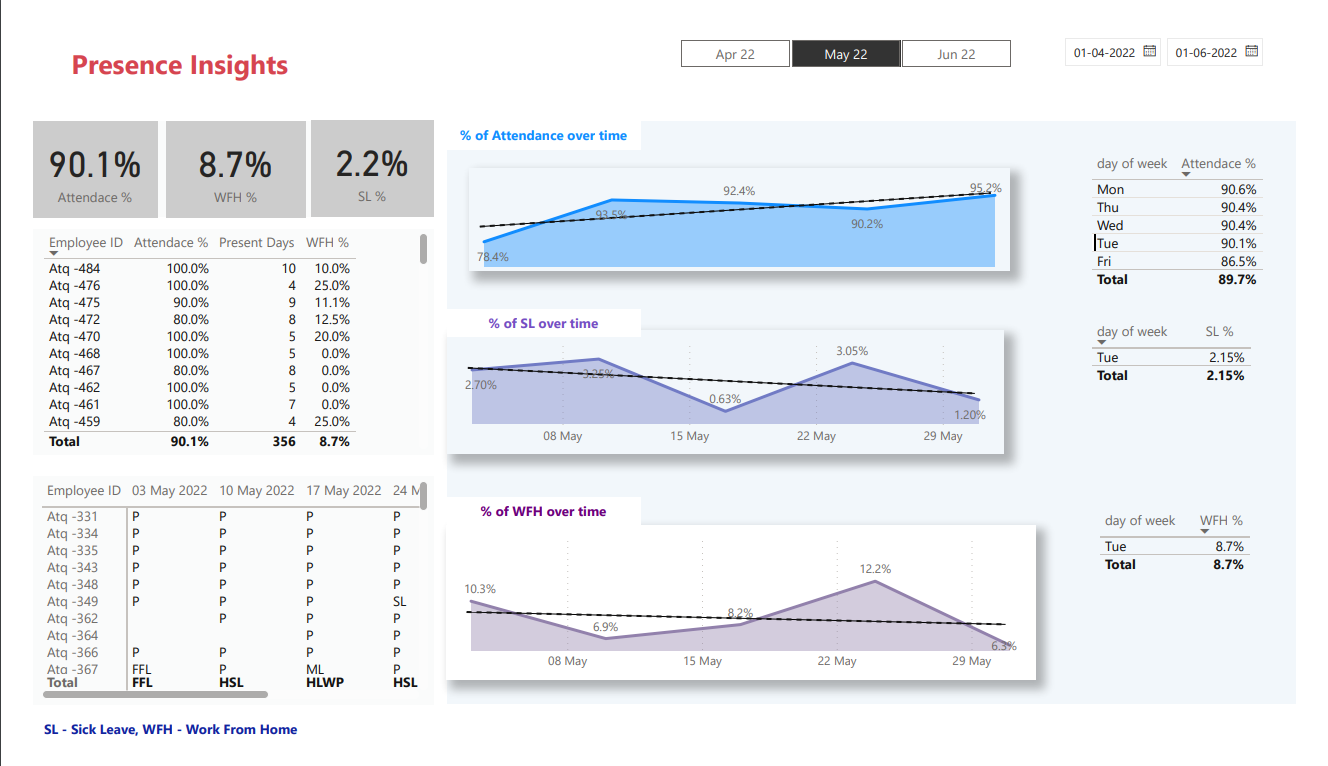

Layout of this report page (visuals, bound fields, positions):
{"tool":"powerbi","page":{"name":"Presence Insights","canvas":[1280,720],"ordinal":0},"visuals":[{"type":"textbox","box":[7.8,205.6,399.9,225.5],"z":0},{"type":"textbox","box":[7.8,453.3,399.8,227.6],"z":1000},{"type":"textbox","box":[422.3,97.9,848.1,582.3],"z":2000},{"type":"textbox","box":[7.8,98,399.9,95.4],"z":3000},{"type":"tableEx","fields":{"Values":["Final Data.Employee ID","Measures (2).Attendace %","Measures (2).Present Days","Measures (2).WFH %"]},"box":[12.6,205.2,394.9,225.7],"z":4000},{"type":"slicer","fields":{"Values":["Final Data.Date"]},"box":[1027.3,5.2,252.7,46.3],"z":5000},{"type":"slicer","fields":{"Values":["Final Data.MMM YY"]},"box":[630.4,10.5,379.5,35.8],"z":6000},{"type":"areaChart","fields":{"Category":["Final Data.MMM YY","Final Data.Date"],"Y":["Measures (2).WFH %"]},"box":[420.7,502.3,589,153.5],"z":7000},{"type":"areaChart","fields":{"Category":["Final Data.WeekNo","Final Data.Date"],"Y":["Measures (2).Attendace %"]},"box":[444.1,144.9,540.4,103.2],"z":8000},{"type":"card","fields":{"Values":["Measures (2).Attendace %"]},"box":[7.8,98,124,96.3],"z":9000},{"type":"card","fields":{"Values":["Measures (2).WFH %"]},"box":[141.4,98,138.8,96.3],"z":10000},{"type":"areaChart","fields":{"Category":["Final Data.MMM YY","Final Data.Date"],"Y":["Measures (2).SL %"]},"box":[422.5,307.1,556,124],"z":11000},{"type":"card","fields":{"Values":["Measures (2).SL %"]},"box":[286.3,97.2,121.4,96.3],"z":13000},{"type":"textbox","box":[0,0,309.9,65.4],"z":14000},{"type":"textbox","box":[422.4,98.2,192.5,27.5],"z":15000},{"type":"textbox","box":[422.5,286.3,192.6,26.9],"z":16000},{"type":"textbox","box":[422.1,473.7,192.6,27.2],"z":17000},{"type":"pivotTable","fields":{"Rows":["Final Data.Employee ID"],"Columns":["Final Data.Date"],"Values":["Min(Final Data.Value)"]},"box":[11.7,453.3,395.9,227.6],"z":18000},{"type":"textbox","box":[13.6,691.6,289.8,28.2],"z":19000},{"type":"tableEx","fields":{"Values":["Final Data.day of week","Measures (2).Attendace %"]},"box":[1060.9,125.8,209.9,145.7],"z":20000},{"type":"tableEx","fields":{"Values":["Final Data.day of week","Measures (2).SL %"]},"box":[1060.9,294.1,191.7,167.4],"z":21000},{"type":"tableEx","fields":{"Values":["Final Data.day of week","Measures (2).WFH %"]},"box":[1068.7,483.2,170,167.4],"z":22000}]}

Visuals, with their boxes in screenshot pixels (x1, y1, x2, y2), scaled from the page's 1280x720 canvas onto the 1328x766 screenshot:
textbox: {"x1": 8, "y1": 219, "x2": 423, "y2": 459}
textbox: {"x1": 8, "y1": 482, "x2": 423, "y2": 724}
textbox: {"x1": 438, "y1": 104, "x2": 1318, "y2": 724}
textbox: {"x1": 8, "y1": 104, "x2": 423, "y2": 206}
tableEx - Final Data.Employee ID x Measures (2).Attendace %: {"x1": 13, "y1": 218, "x2": 423, "y2": 458}
slicer - Final Data.Date: {"x1": 1066, "y1": 6, "x2": 1327, "y2": 55}
slicer - Final Data.MMM YY: {"x1": 654, "y1": 11, "x2": 1048, "y2": 49}
areaChart - Final Data.MMM YY x Final Data.Date: {"x1": 436, "y1": 534, "x2": 1048, "y2": 698}
areaChart - Final Data.WeekNo x Final Data.Date: {"x1": 461, "y1": 154, "x2": 1021, "y2": 264}
card - Measures (2).Attendace %: {"x1": 8, "y1": 104, "x2": 137, "y2": 207}
card - Measures (2).WFH %: {"x1": 147, "y1": 104, "x2": 291, "y2": 207}
areaChart - Final Data.MMM YY x Final Data.Date: {"x1": 438, "y1": 327, "x2": 1015, "y2": 459}
card - Measures (2).SL %: {"x1": 297, "y1": 103, "x2": 423, "y2": 206}
textbox: {"x1": 0, "y1": 0, "x2": 322, "y2": 70}
textbox: {"x1": 438, "y1": 104, "x2": 638, "y2": 134}
textbox: {"x1": 438, "y1": 305, "x2": 638, "y2": 333}
textbox: {"x1": 438, "y1": 504, "x2": 638, "y2": 533}
pivotTable - Final Data.Employee ID x Final Data.Date: {"x1": 12, "y1": 482, "x2": 423, "y2": 724}
textbox: {"x1": 14, "y1": 736, "x2": 315, "y2": 765}
tableEx - Final Data.day of week x Measures (2).Attendace %: {"x1": 1101, "y1": 134, "x2": 1318, "y2": 289}
tableEx - Final Data.day of week x Measures (2).SL %: {"x1": 1101, "y1": 313, "x2": 1300, "y2": 491}
tableEx - Final Data.day of week x Measures (2).WFH %: {"x1": 1109, "y1": 514, "x2": 1285, "y2": 692}
